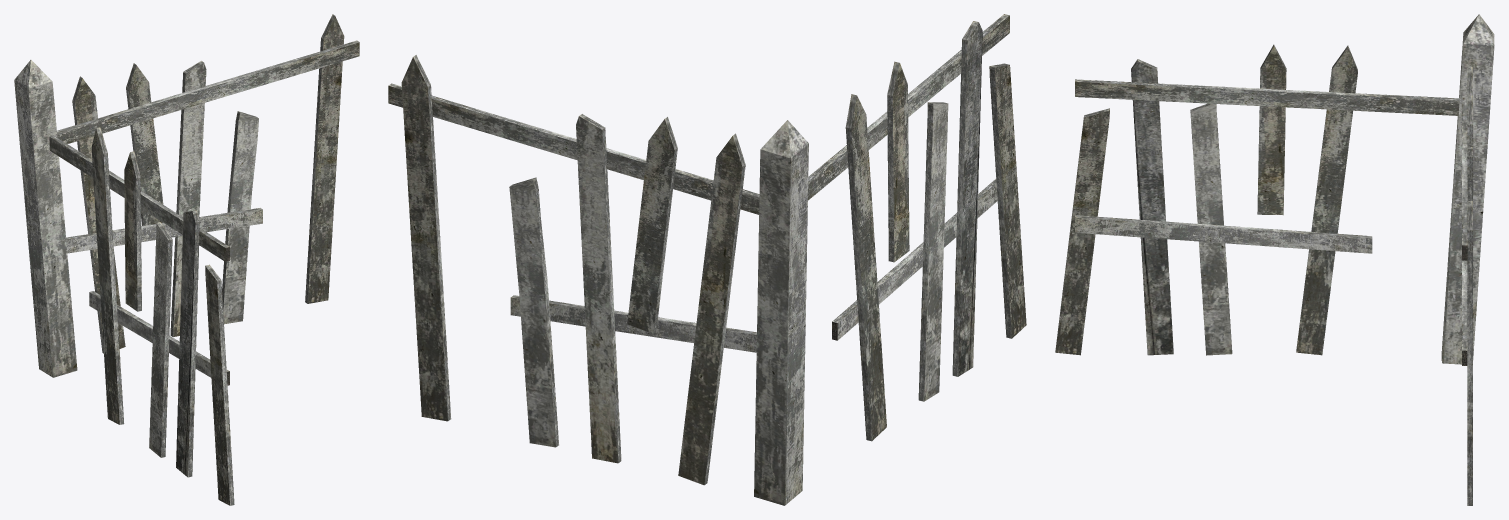
Rendered from CornIn01.FBX.
3 views of the same model, side by side, from view 1: azimuth 30°, elevation 25°; view 2: azimuth 150°, elevation 25°; view 3: azimuth 270°, elevation 25° (orthographic). The views are drawn at different scales.
Parts seen in each view (by area): view 1: FencePickBurntCorIn01:0; view 2: FencePickBurntCorIn01:0; view 3: FencePickBurntCorIn01:0.
Part boxes in pixels (x1,y1,x2,y2): FencePickBurntCorIn01:0: (14,14,359,505); FencePickBurntCorIn01:0: (388,14,1026,505); FencePickBurntCorIn01:0: (1055,14,1494,505).
Size of the model in its own units: 1.36 by 1.21 by 1.43.
